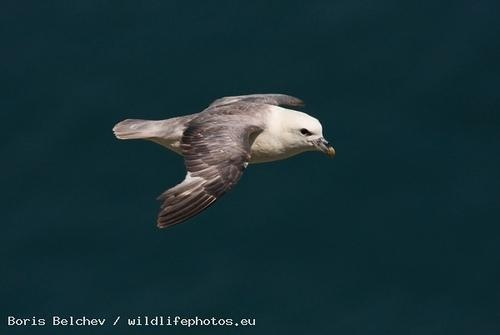bird: (95, 92, 338, 228)
